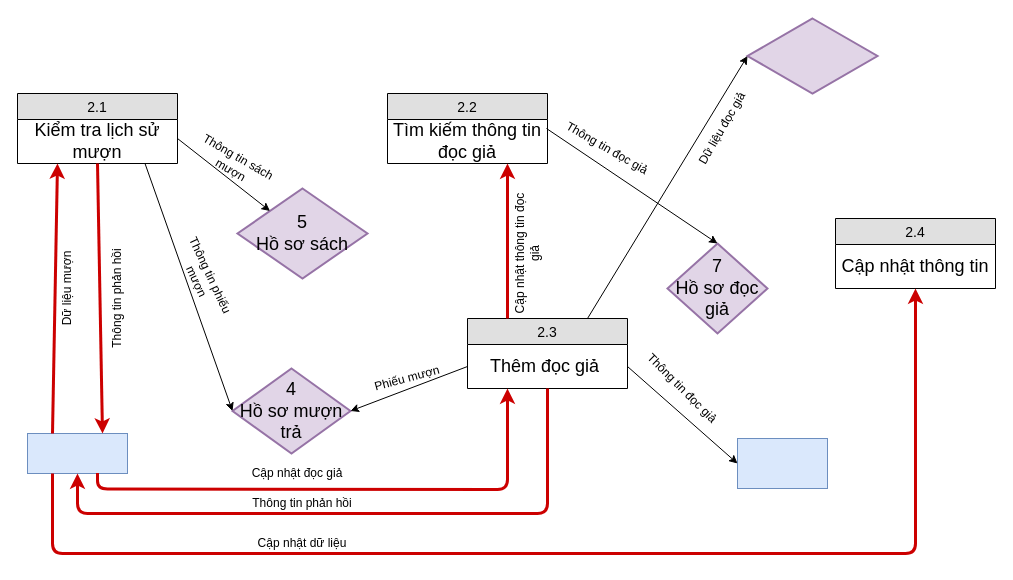
The diagram is 1013 pixels wide and 580 high, and some of its shapes have lost their labels. Each missing label, with the centre of its shape:
2 Thẻ đọc giả: the point at 812,55
Nhân viên: the point at 77,453
Đọc giả: the point at 782,463
